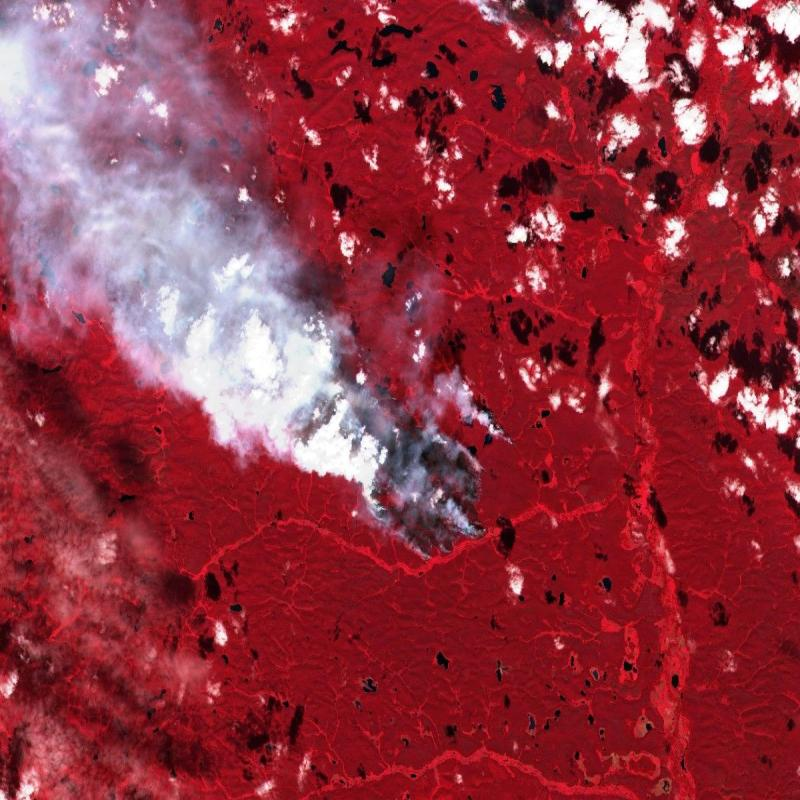fire: (342, 384, 512, 567), (478, 0, 591, 57)
